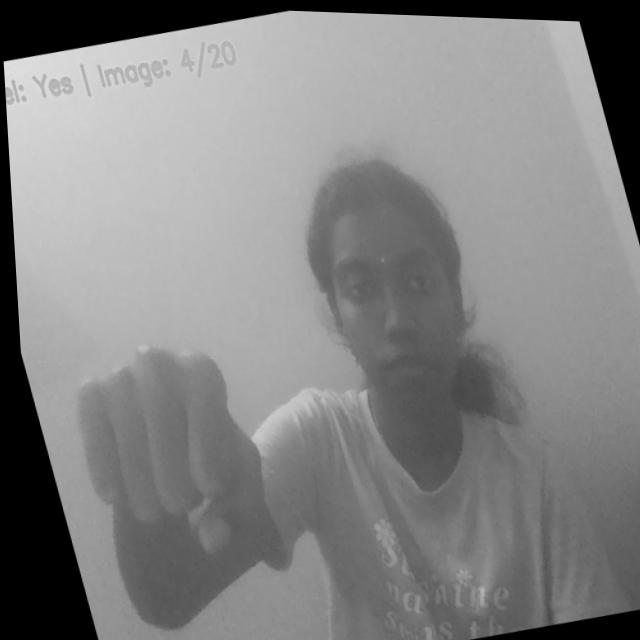Yes: (52, 326, 283, 585)
